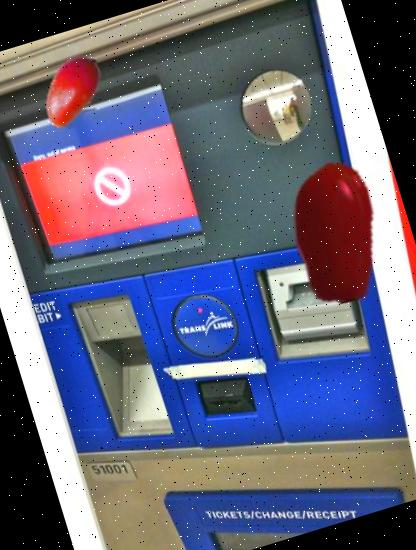Potato: (23, 42, 121, 139)
Tomato: (248, 144, 416, 320)
